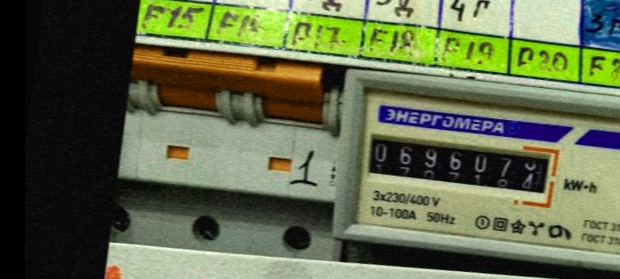0: (472, 150, 489, 174), (372, 141, 389, 163)
4: (520, 170, 535, 192)
6: (397, 143, 414, 165), (447, 149, 463, 171)
7: (496, 156, 514, 178)
9: (422, 146, 438, 169)
screen: (353, 122, 565, 206)
